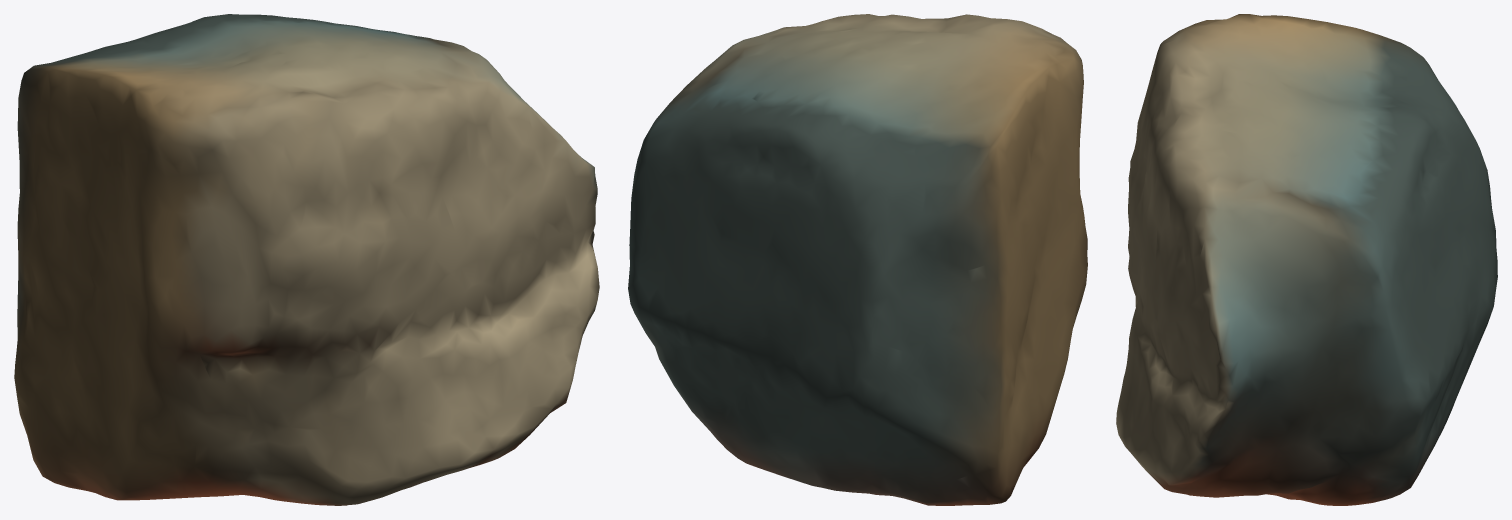
File: rock4_low.fbx
3 views of the same model, side by side, from view 1: azimuth 30°, elevation 25°; view 2: azimuth 150°, elevation 25°; view 3: azimuth 270°, elevation 25° (orthographic). The views are drawn at different scales.
Visible parts, largest first — view 1: rock4_low; view 2: rock4_low; view 3: rock4_low.
Boxes of the visible parts, box(x1,y1,x2,y2) form: rock4_low: box(14, 14, 599, 505); rock4_low: box(628, 14, 1087, 505); rock4_low: box(1116, 14, 1497, 505).
Bounding box in the file's own units: 1.23 × 1.11 × 1.
